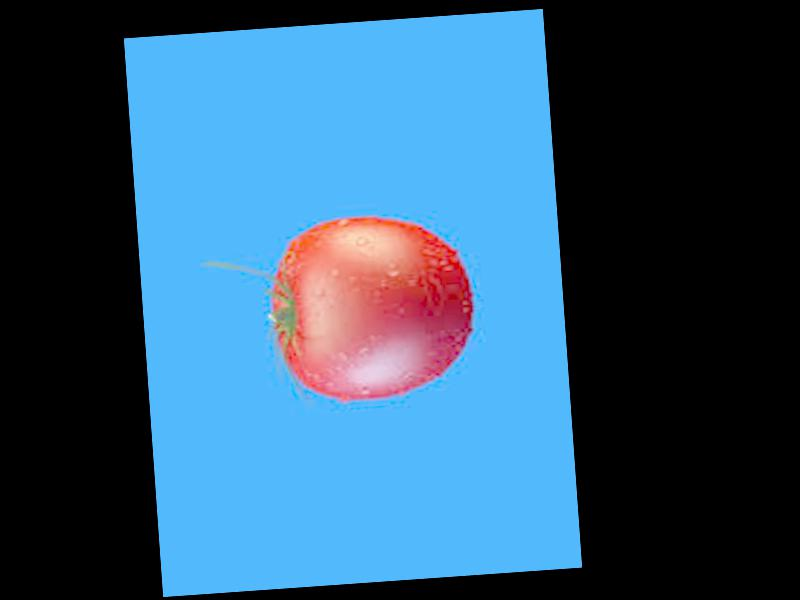Tomato: (265, 209, 480, 407)
